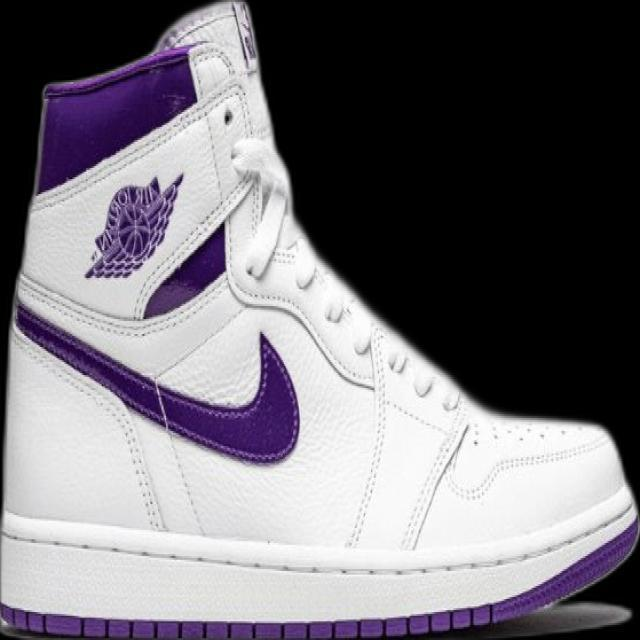J1_InsoleChar: (0, 0, 639, 639)
J1_ShoeLogo: (83, 170, 184, 280)
J1_StitchPattern: (236, 232, 473, 549), (1, 502, 638, 581), (10, 299, 301, 465), (11, 303, 172, 531), (342, 325, 469, 550), (1, 603, 493, 639), (343, 326, 390, 550), (398, 414, 471, 552), (227, 0, 260, 70)
